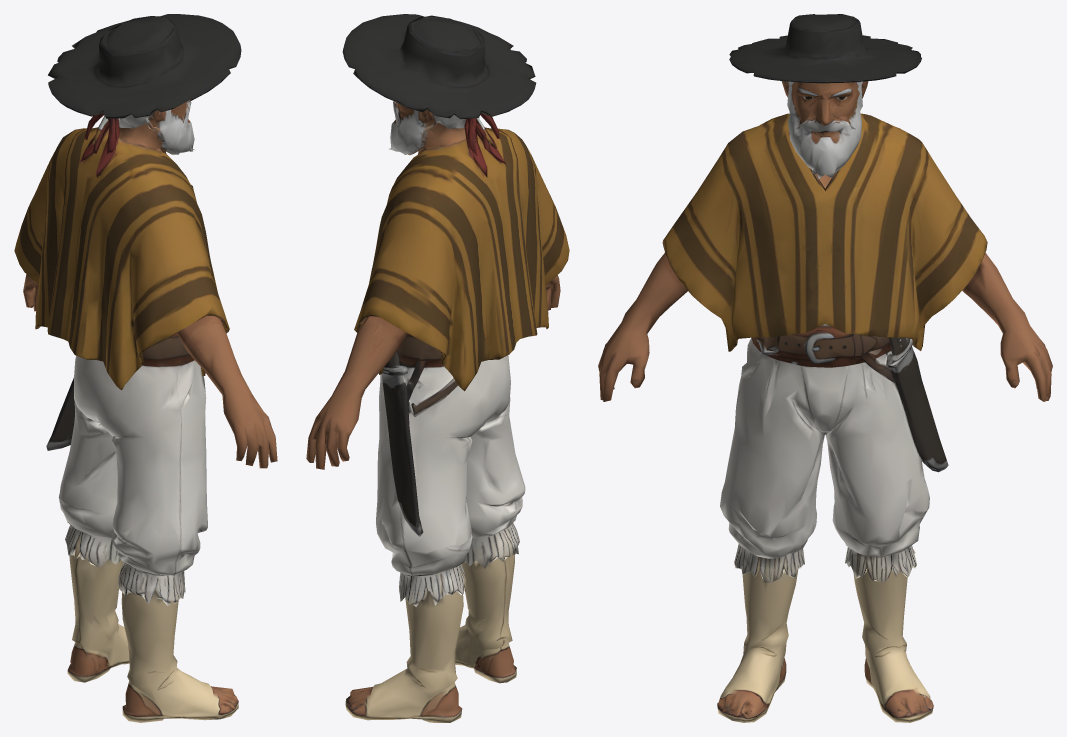
Rendered from c3379db3-8214-4cf6-bbbb-2114c4da4462_model_url.glb.
3 views of the same model, side by side, from view 1: azimuth 30°, elevation 25°; view 2: azimuth 150°, elevation 25°; view 3: azimuth 270°, elevation 25° (orthographic). The views are drawn at different scales.
Parts seen in each view (by area): view 1: tripo_node_c3379db3-8214-4cf6-bbbb-2114c4da4462; view 2: tripo_node_c3379db3-8214-4cf6-bbbb-2114c4da4462; view 3: tripo_node_c3379db3-8214-4cf6-bbbb-2114c4da4462.
Boxes of the visible parts, <box> form: tripo_node_c3379db3-8214-4cf6-bbbb-2114c4da4462: <box>14,14,277,722</box>; tripo_node_c3379db3-8214-4cf6-bbbb-2114c4da4462: <box>306,14,569,722</box>; tripo_node_c3379db3-8214-4cf6-bbbb-2114c4da4462: <box>598,14,1052,722</box>.
Size of the model in its own units: 0.266 by 1 by 0.6067.
1 material, 1 textured.
